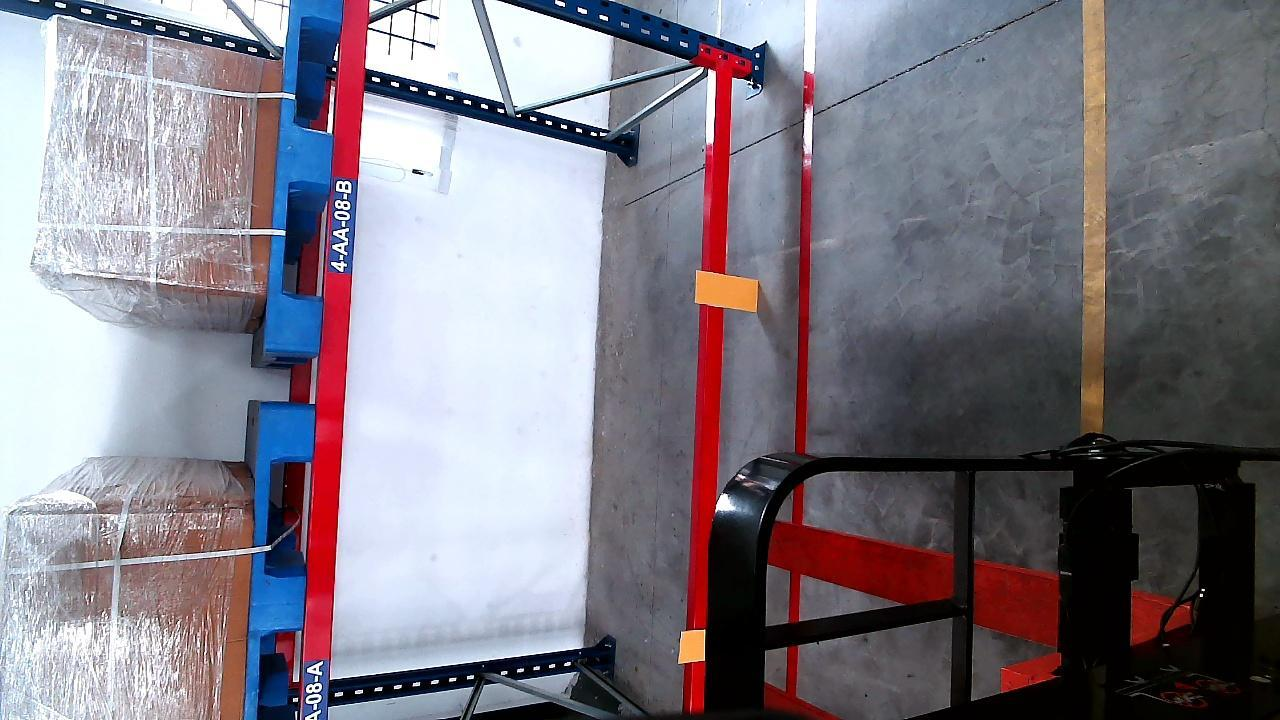red_line: (793, 0, 818, 453)
yellow_line: (1081, 0, 1108, 435)
